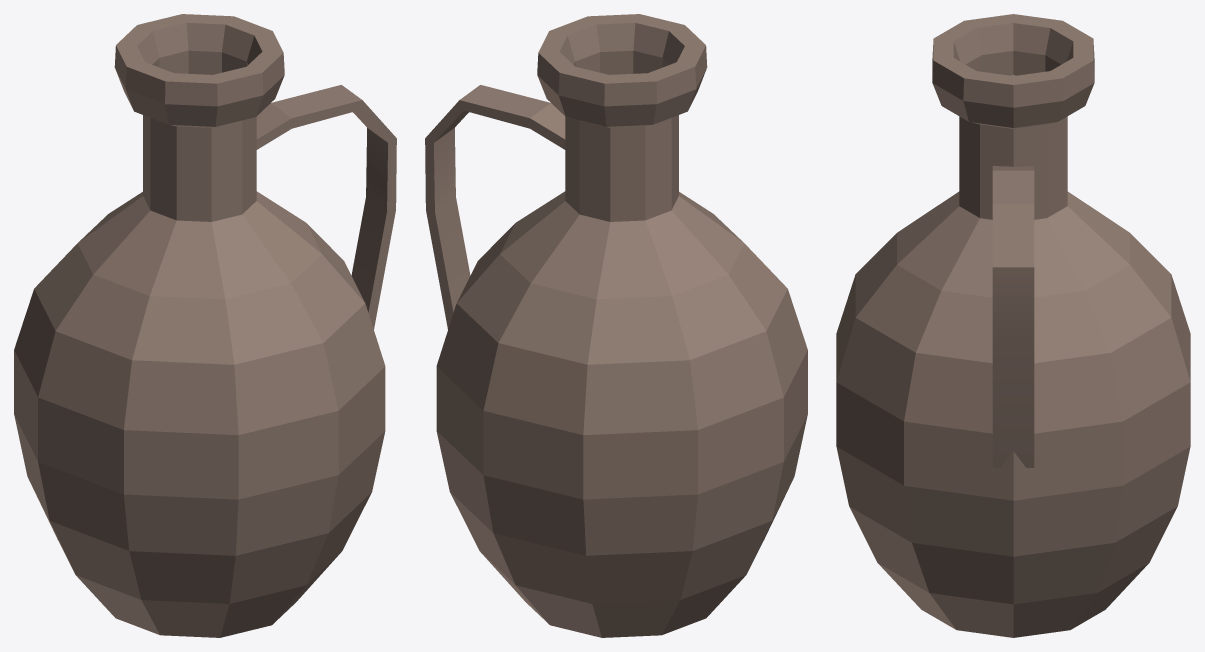
Rendered from VasoDeBarroAgua.fbx.
3 views of the same model, side by side, from view 1: azimuth 30°, elevation 25°; view 2: azimuth 150°, elevation 25°; view 3: azimuth 270°, elevation 25° (orthographic).
Visible parts, largest first — view 1: pCylinder38, pCube55; view 2: pCylinder38, pCube55; view 3: pCylinder38, pCube55.
Part boxes in pixels (bbox=[...]): pCylinder38: bbox=[14, 14, 385, 637]; pCube55: bbox=[256, 85, 396, 329]; pCylinder38: bbox=[436, 14, 807, 637]; pCube55: bbox=[425, 85, 565, 329]; pCylinder38: bbox=[836, 14, 1190, 637]; pCube55: bbox=[992, 166, 1034, 467].
Size of the model in its own units: 0.4086 by 0.6154 by 0.3608.
